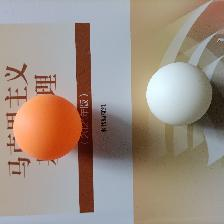WhiteBall: (145, 61, 212, 125)
YellowBall: (11, 93, 82, 160)
